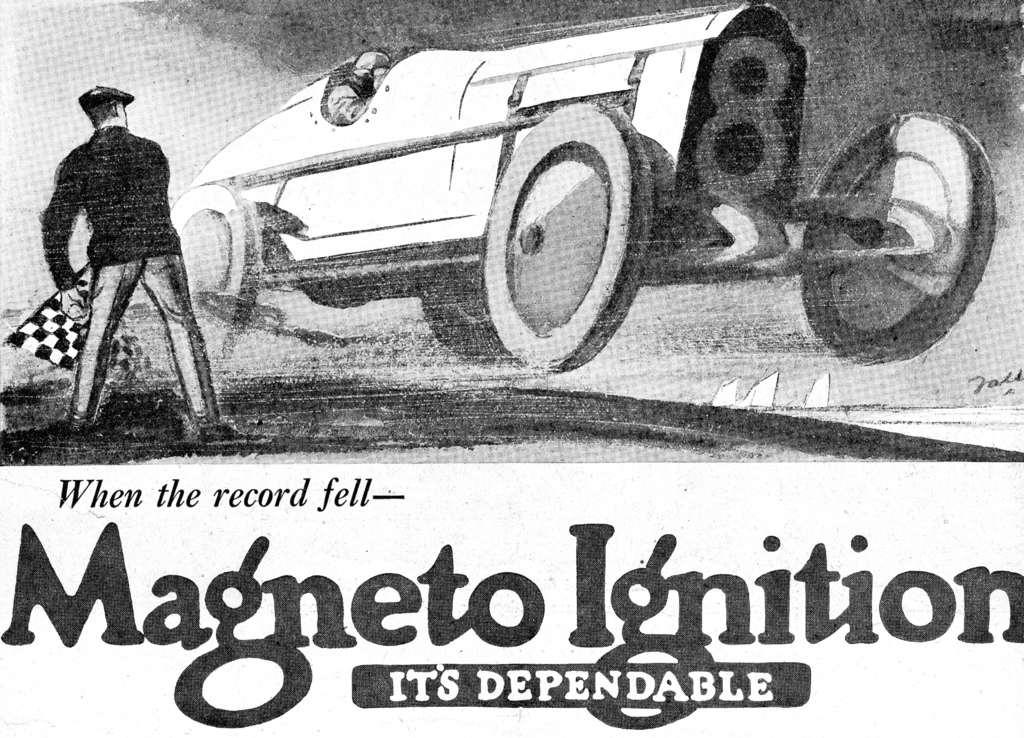Car: (104, 15, 950, 408)
